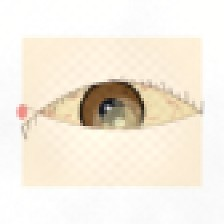corneal_ulcer: (92, 100, 146, 143)
